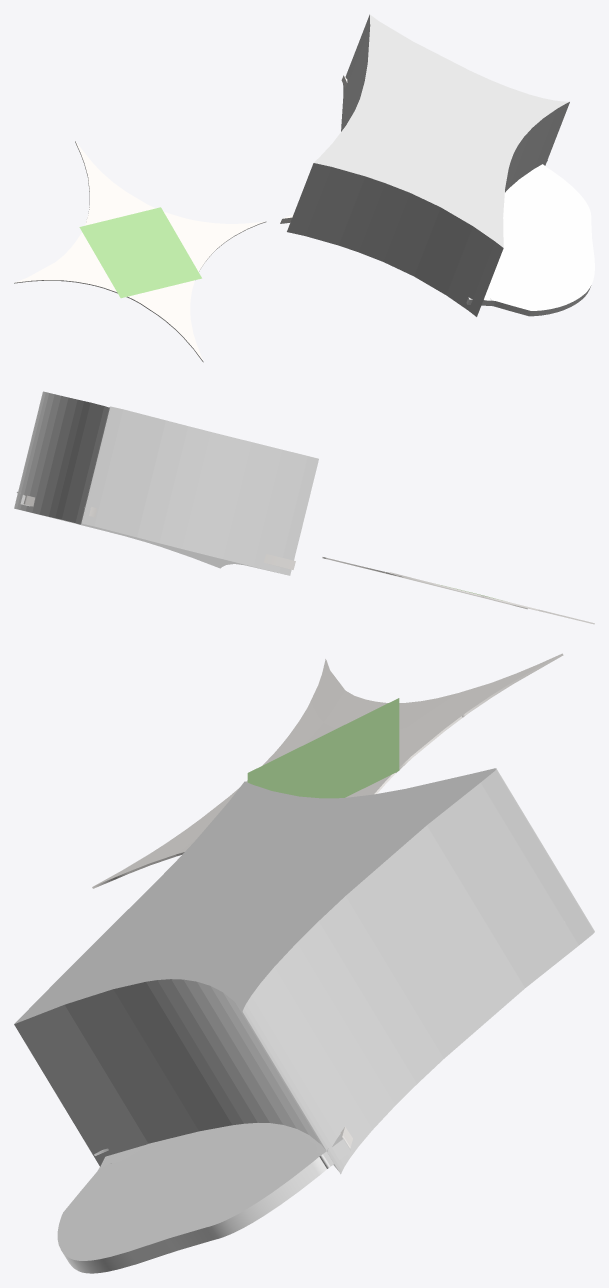
File: piece_decoupe_v03.glb
3 views of the same model, one above another, from view 1: azimuth 30°, elevation 25°; view 2: azimuth 150°, elevation 25°; view 3: azimuth 270°, elevation 25° (orthographic). The views are drawn at different scales.
Parts seen in each view (by area): view 1: surface_drop, piece1, couleurEtoile, papier_extrusion17, papier_extrusion1, papier_extrusion20, papier_extrusion13, papier_extrusion19, papier_extrusion4, papier_extrusion5, papier_extrusion16, papier_extrusion3 (+1 smaller); view 2: surface_drop, piece_principale; view 3: surface_drop, piece1, couleurEtoile, papier_extrusion17, papier_extrusion13, papier_extrusion4, papier_extrusion20, papier_extrusion19, papier_extrusion16, papier_extrusion18.
Part boxes in pixels (bbox=[...]): surface_drop: bbox=[287, 14, 569, 316]; piece1: bbox=[489, 167, 594, 316]; couleurEtoile: bbox=[79, 207, 201, 298]; papier_extrusion17: bbox=[75, 141, 116, 214]; papier_extrusion1: bbox=[195, 221, 266, 249]; papier_extrusion20: bbox=[14, 262, 85, 283]; papier_extrusion13: bbox=[114, 185, 155, 217]; papier_extrusion19: bbox=[56, 232, 96, 266]; papier_extrusion4: bbox=[165, 306, 203, 362]; papier_extrusion5: bbox=[176, 218, 213, 245]; papier_extrusion16: bbox=[58, 266, 111, 288]; papier_extrusion3: bbox=[169, 281, 193, 320]; surface_drop: bbox=[14, 391, 318, 575]; piece_principale: bbox=[23, 494, 295, 569]; surface_drop: bbox=[14, 768, 594, 1174]; piece1: bbox=[57, 1123, 326, 1273]; couleurEtoile: bbox=[247, 698, 399, 798]; papier_extrusion17: bbox=[408, 653, 563, 726]; papier_extrusion13: bbox=[396, 715, 462, 772]; papier_extrusion4: bbox=[92, 826, 206, 888]; papier_extrusion20: bbox=[310, 659, 345, 722]; papier_extrusion19: bbox=[323, 690, 387, 728]; papier_extrusion16: bbox=[276, 702, 323, 755]; papier_extrusion18: bbox=[399, 693, 457, 728].
Size of the model in its own units: 0.5098 by 0.2039 by 0.2551.
